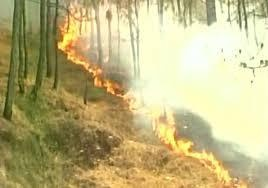fire: (53, 3, 142, 110)
